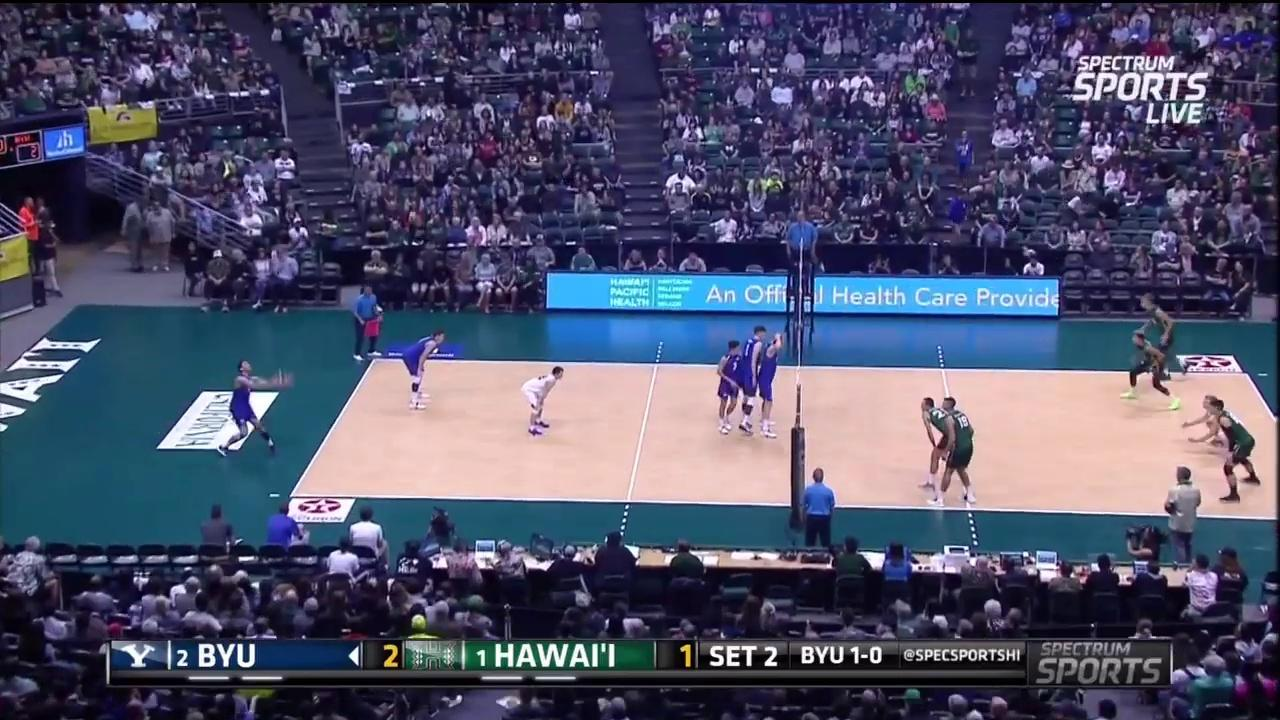player: (1199, 399, 1263, 500), (220, 364, 290, 455), (1134, 291, 1187, 381), (939, 394, 979, 511), (1127, 331, 1183, 411), (399, 329, 449, 413), (1186, 391, 1243, 464), (917, 391, 956, 490), (718, 338, 751, 434), (522, 364, 564, 436), (741, 320, 767, 435), (762, 334, 786, 447)
refree: (799, 465, 839, 544), (784, 211, 819, 284), (350, 282, 381, 361)
